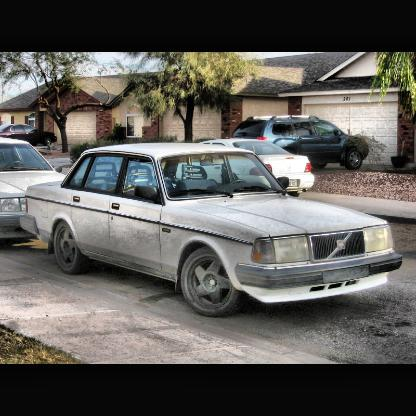Volvo 240 Sedan 1993: (20, 143, 402, 320)
